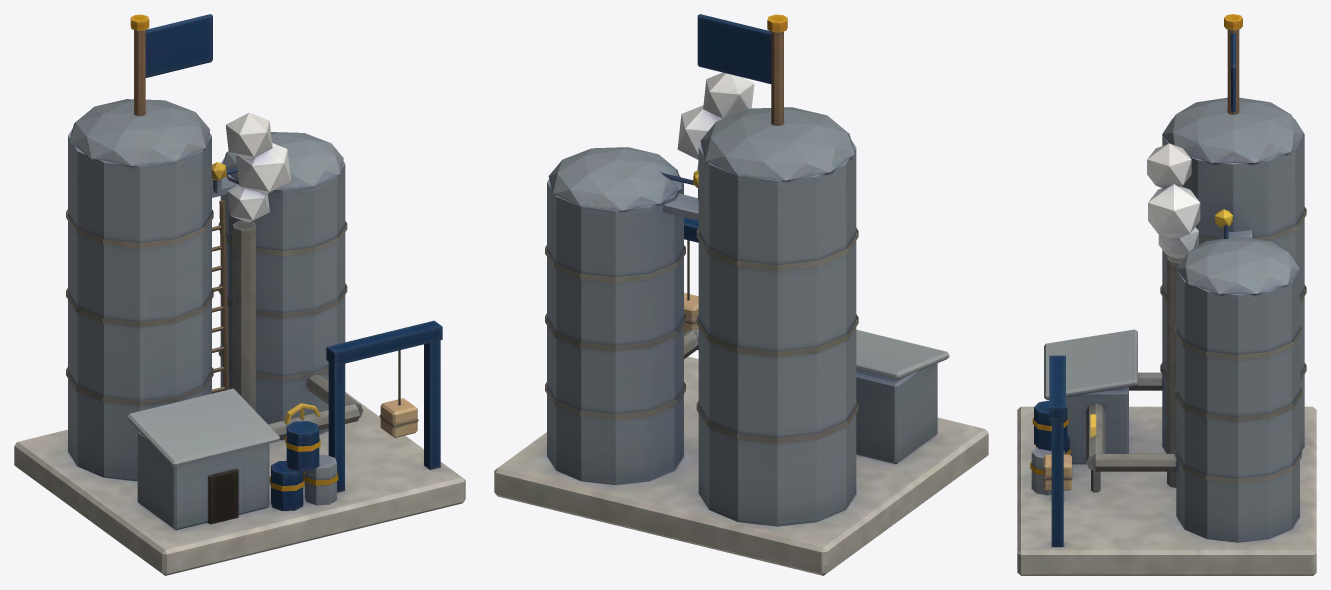
File: refinery-15.glb
The picture shows the model from 3 angles, left to right: view 1: azimuth 30°, elevation 25°; view 2: azimuth 150°, elevation 25°; view 3: azimuth 270°, elevation 25°; orthographic projection. The views are drawn at different scales.
Visible parts, largest first — view 1: refinery-15; view 2: refinery-15; view 3: refinery-15.
Boxes of the visible parts, left/top/right/bottom form: refinery-15: left=14, top=14, right=465, bottom=575; refinery-15: left=494, top=14, right=988, bottom=575; refinery-15: left=1017, top=14, right=1316, bottom=575.
Size of the model in its own units: 1.46 by 2.11 by 1.26.
1 material, 1 textured.
